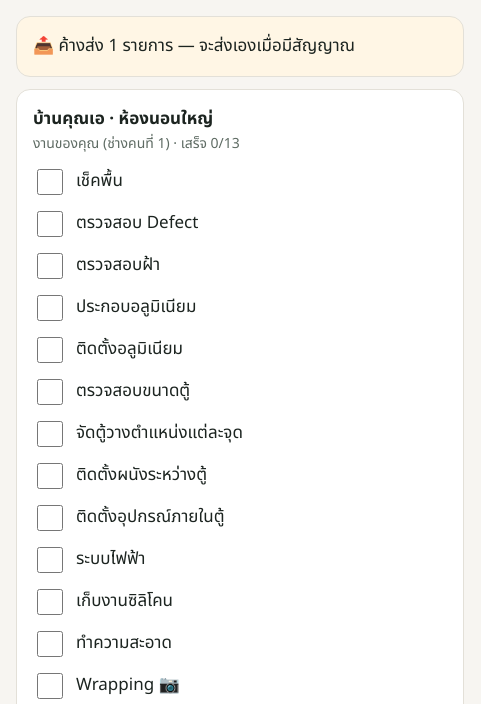
Test case: MyWork — checklist toggle revert เมื่อ RPC fail (S18 Slice 2) › RPC ตอบ error → checkbox กลับสถานะเดิม + โชว์ "ยังไม่ได้บันทึก" โดยไม่ทิ้งทั้งจอ
This screenshot has width=481, height=704.
Click the checkbox labelled "เช็คพื้น".
click(50, 182)  # box x1=37 y1=169 x2=63 y2=195
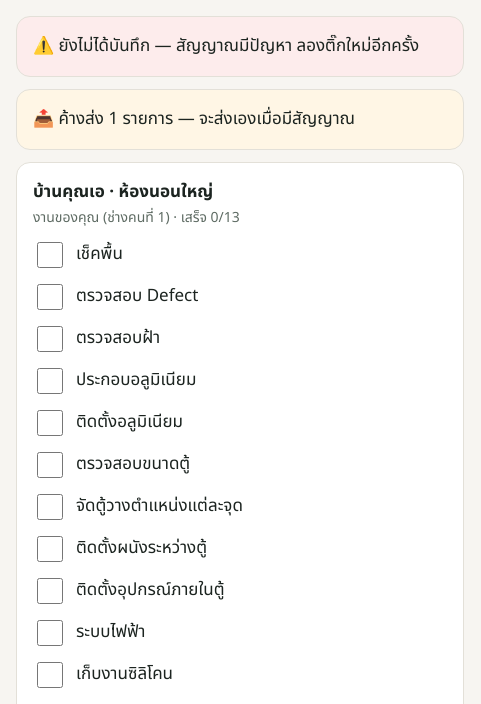
Expected: the checkbox labelled "เช็คพื้น" is not checked, x1=37 y1=242 x2=63 y2=268
Now the text "⚠️ ยังไม่ได้บันทึก — สัญญาณมีปัญหา ลองติ๊กใหม่อีกครั้ง" is shown, box x1=16 y1=16 x2=464 y2=77
